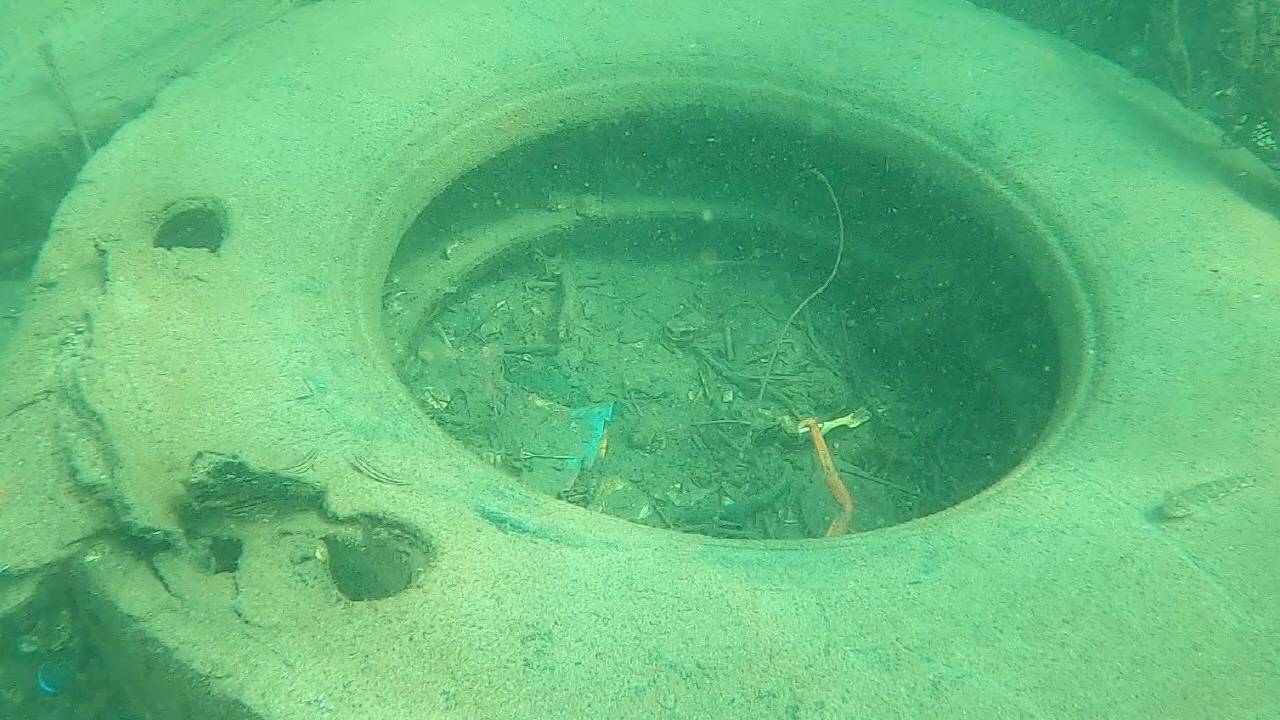eel fish trap: (29, 0, 1280, 720)
